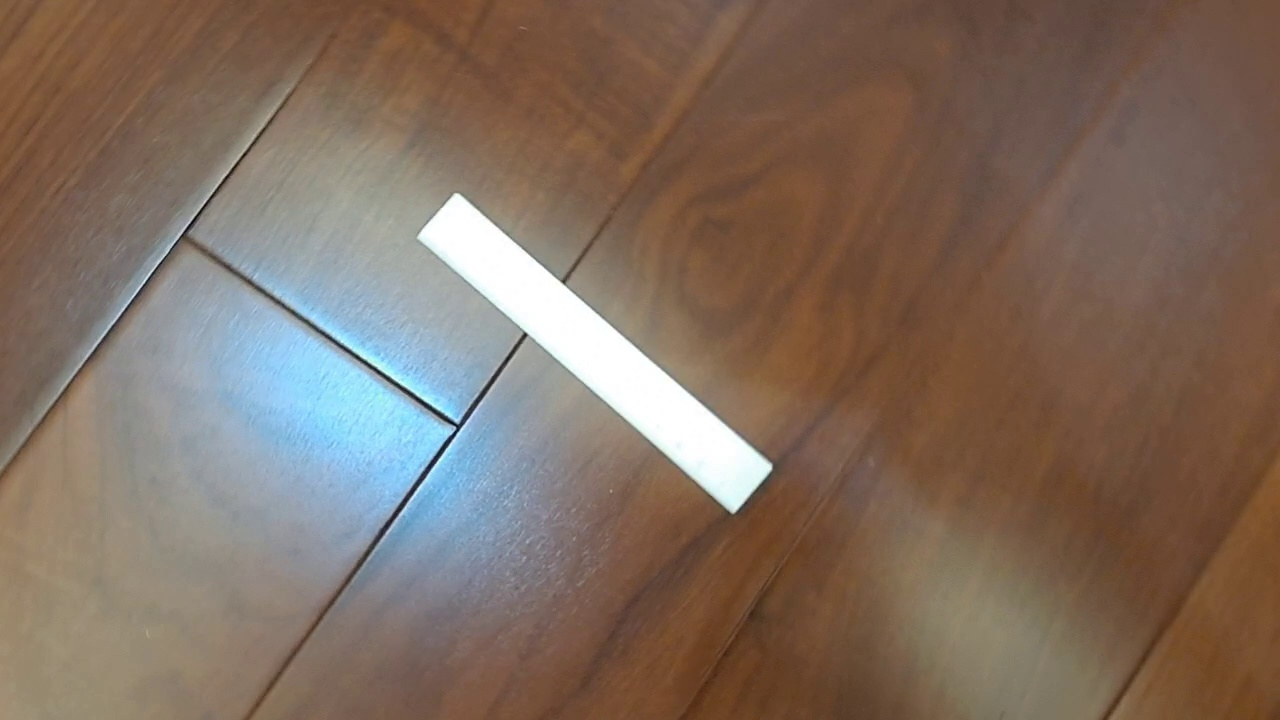ruler: (415, 191, 775, 517)
